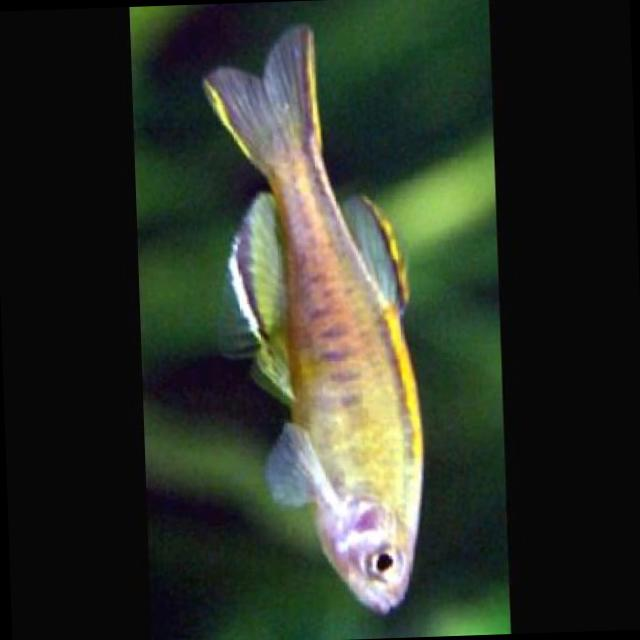ZebraFish: (212, 30, 436, 625)
